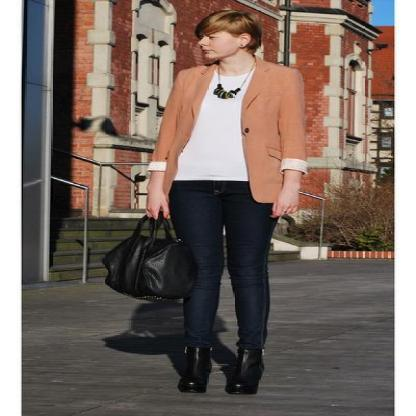bag: (101, 232, 203, 307)
jacket: (137, 58, 307, 205)
pants: (162, 180, 288, 350)
shirt: (173, 70, 252, 180)
shoe: (169, 349, 261, 394)
